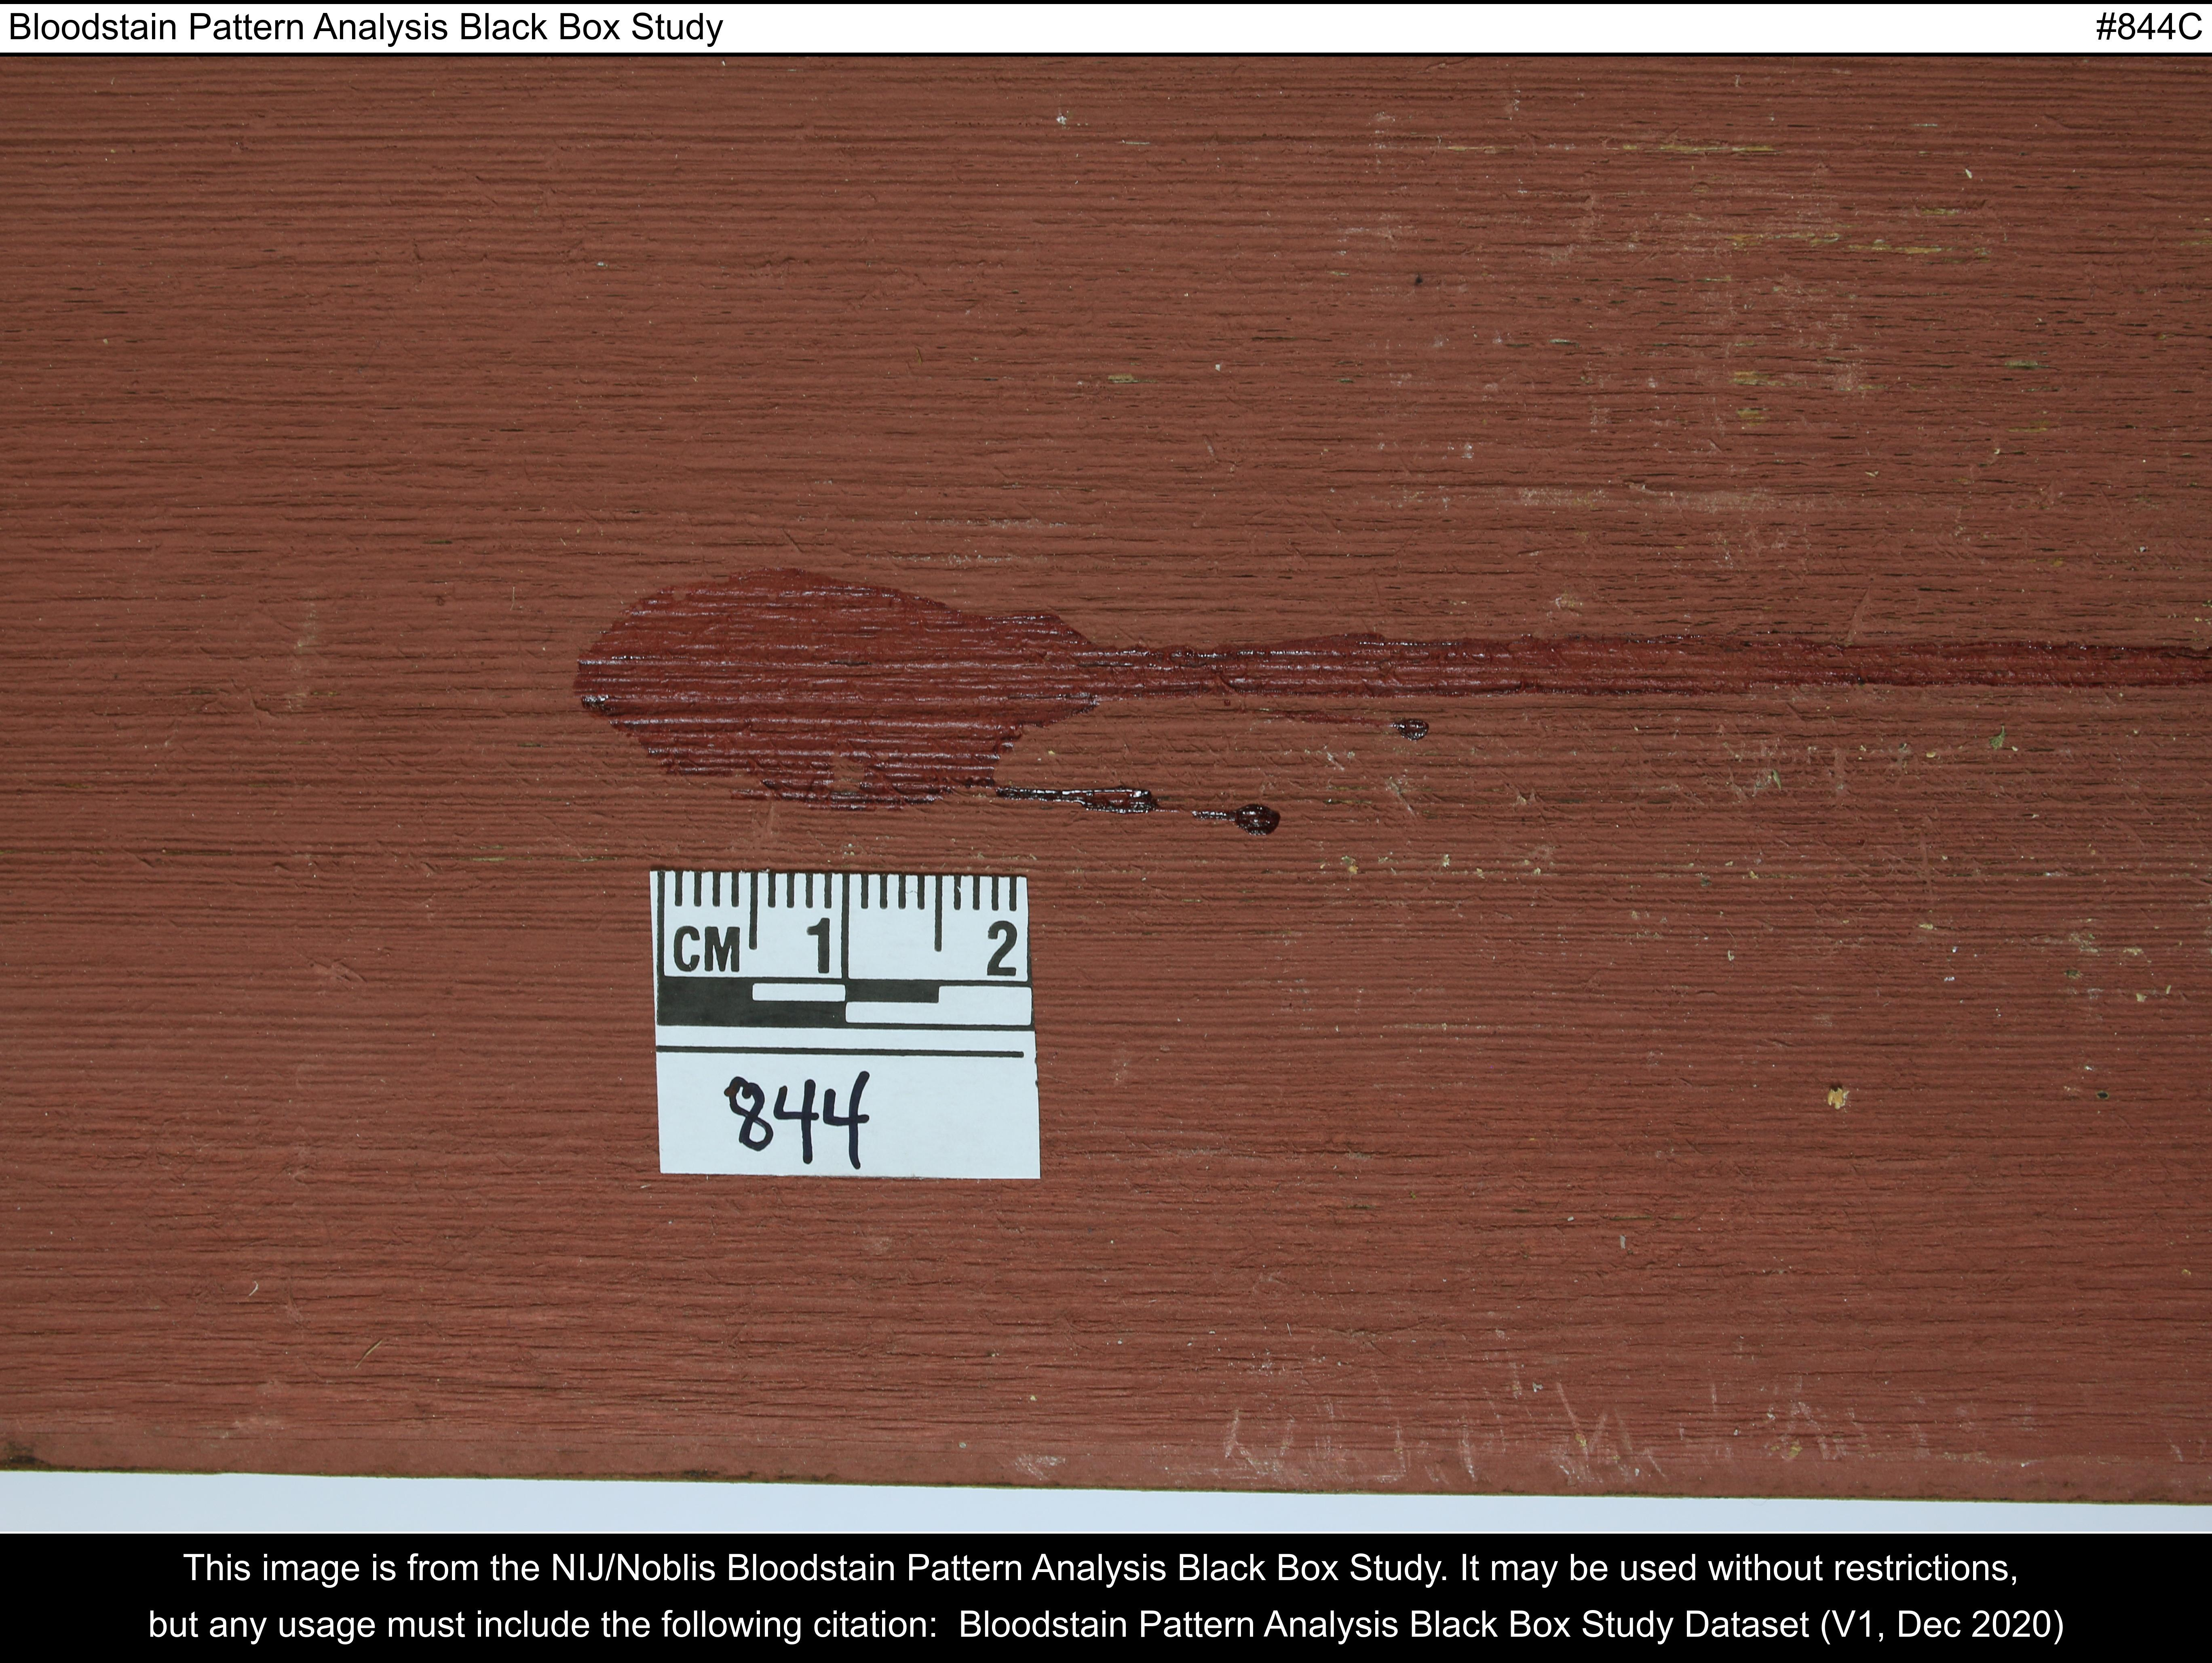Transfer: (372, 538, 2212, 852)
